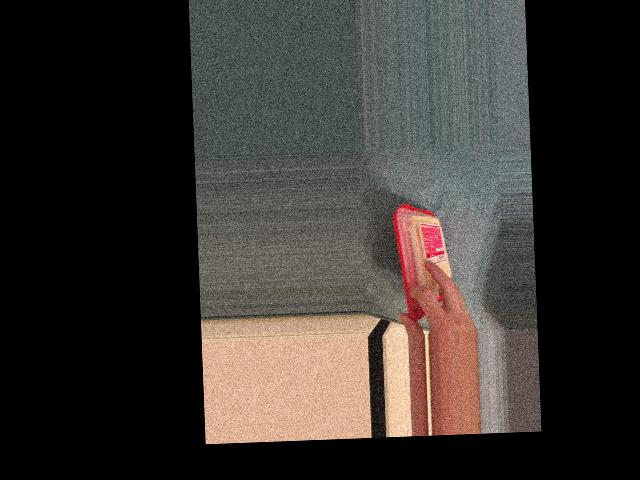cheese: (390, 200, 462, 323)
